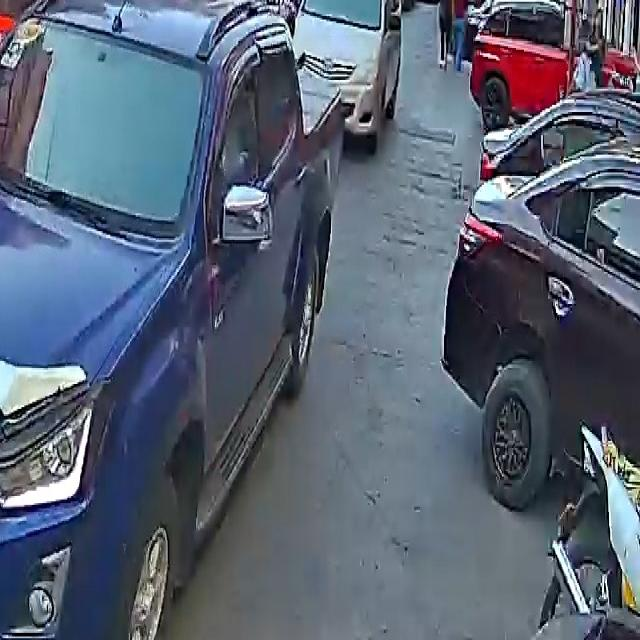car: (444, 97, 640, 526), (291, 0, 404, 148), (466, 0, 575, 128), (410, 0, 441, 2)
